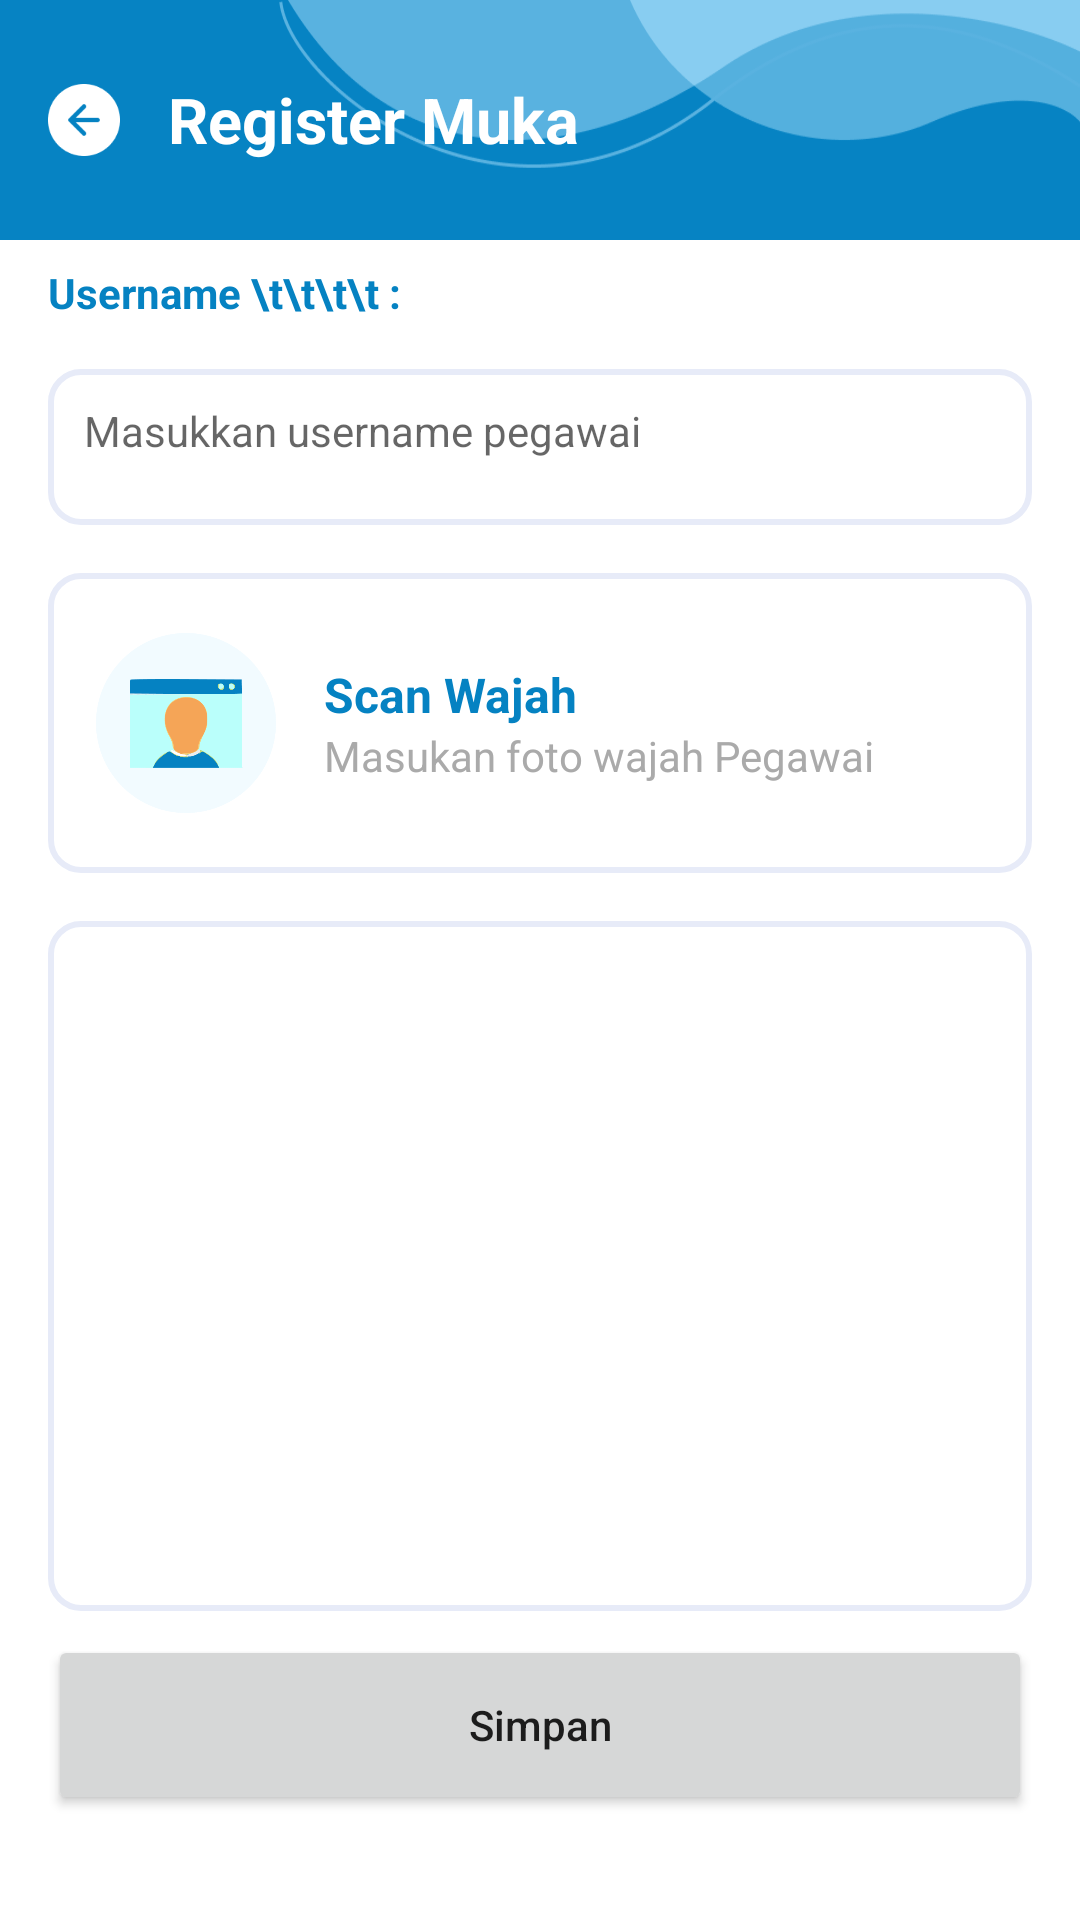

Icons on this 1080*1920 Android screen, each with its box as (x1,y1,x2,y2):
absen scan: (130,679,243,768)
back: (48,84,120,156)
